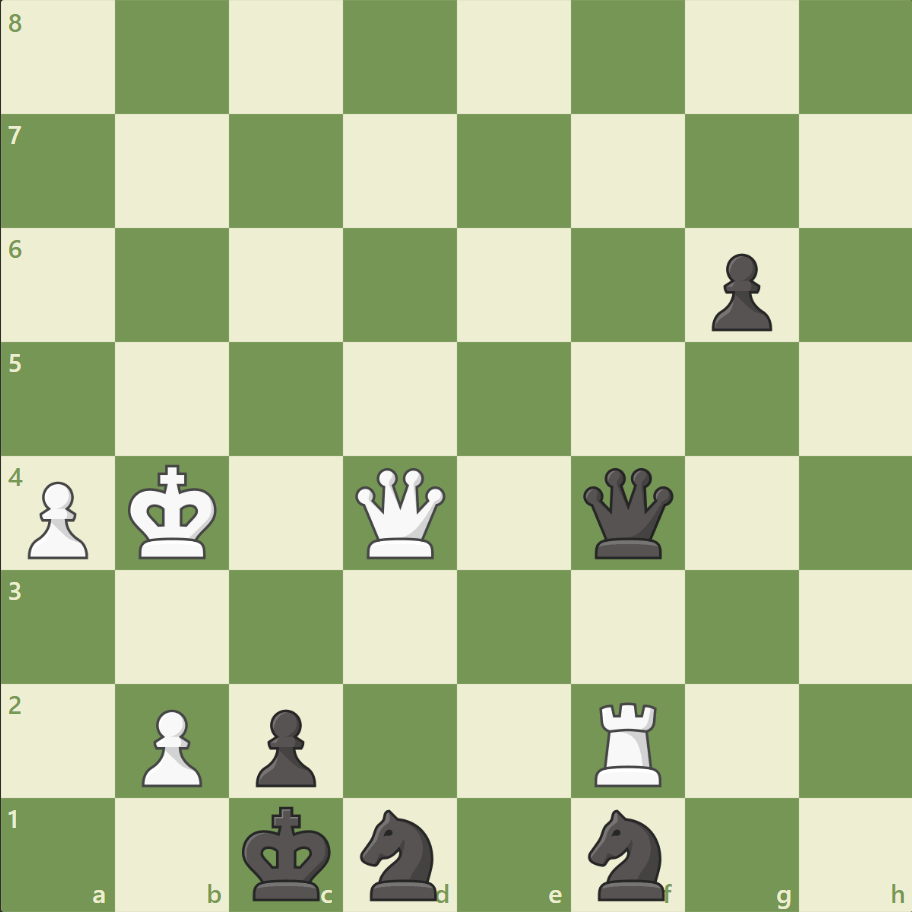K: (124, 458, 224, 566)
P: (20, 473, 95, 564), (133, 700, 208, 791)
Q: (351, 463, 450, 562)
R: (587, 693, 670, 790)
k: (238, 798, 338, 906)
n: (351, 802, 449, 904), (579, 802, 676, 904)
p: (701, 246, 776, 337), (247, 700, 322, 791)
q: (578, 463, 677, 562)
